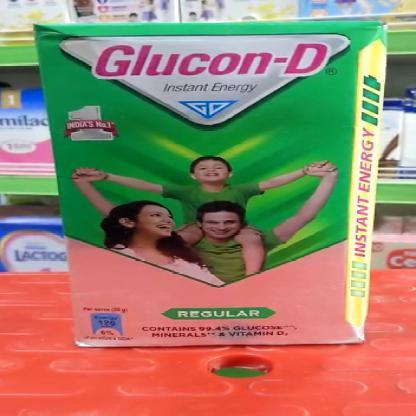Glucon D Regular 1-KG: (52, 20, 375, 345)
